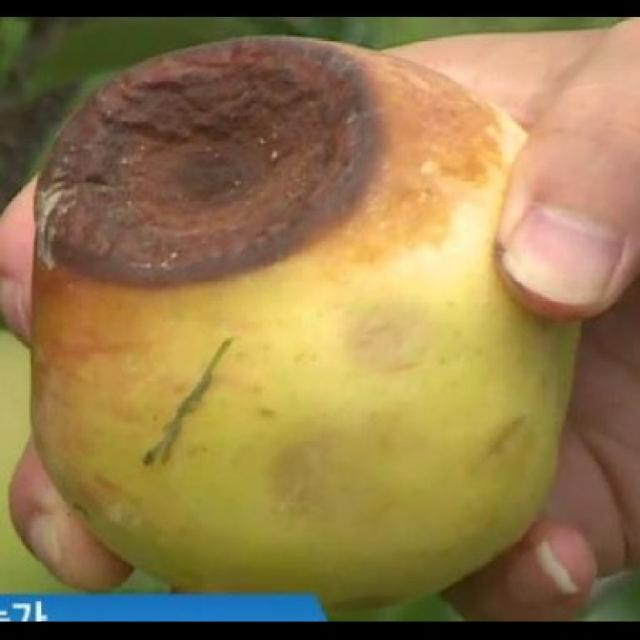Rotten Apple: (26, 30, 589, 608)
